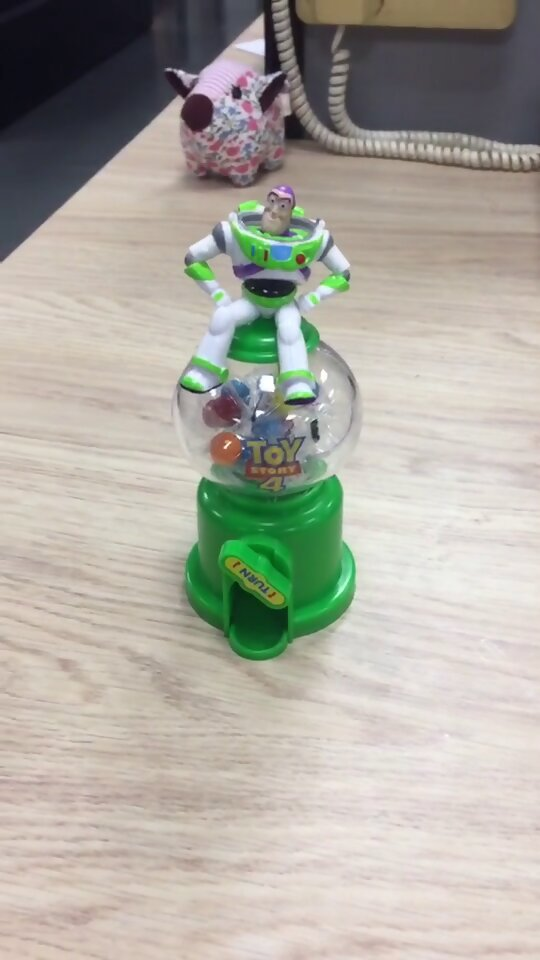buzz: (172, 180, 362, 663)
